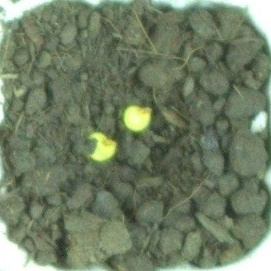pepper seed: (46, 37, 199, 169), (27, 49, 146, 213)
